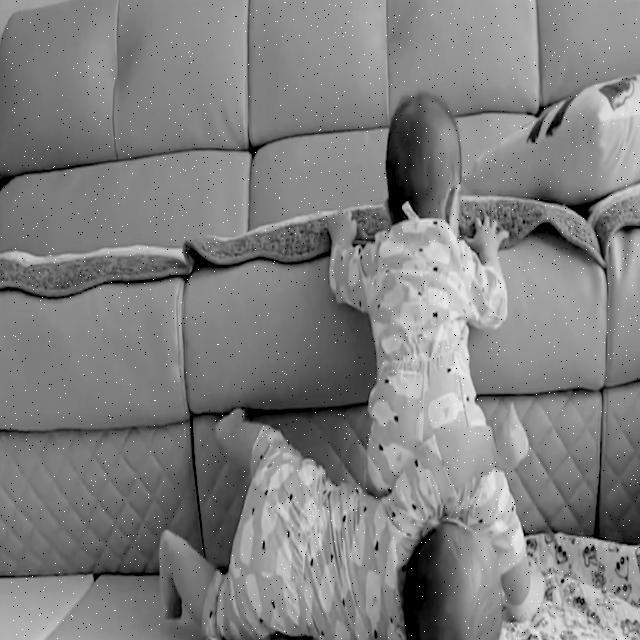child: (323, 92, 544, 623), (161, 398, 529, 640)
